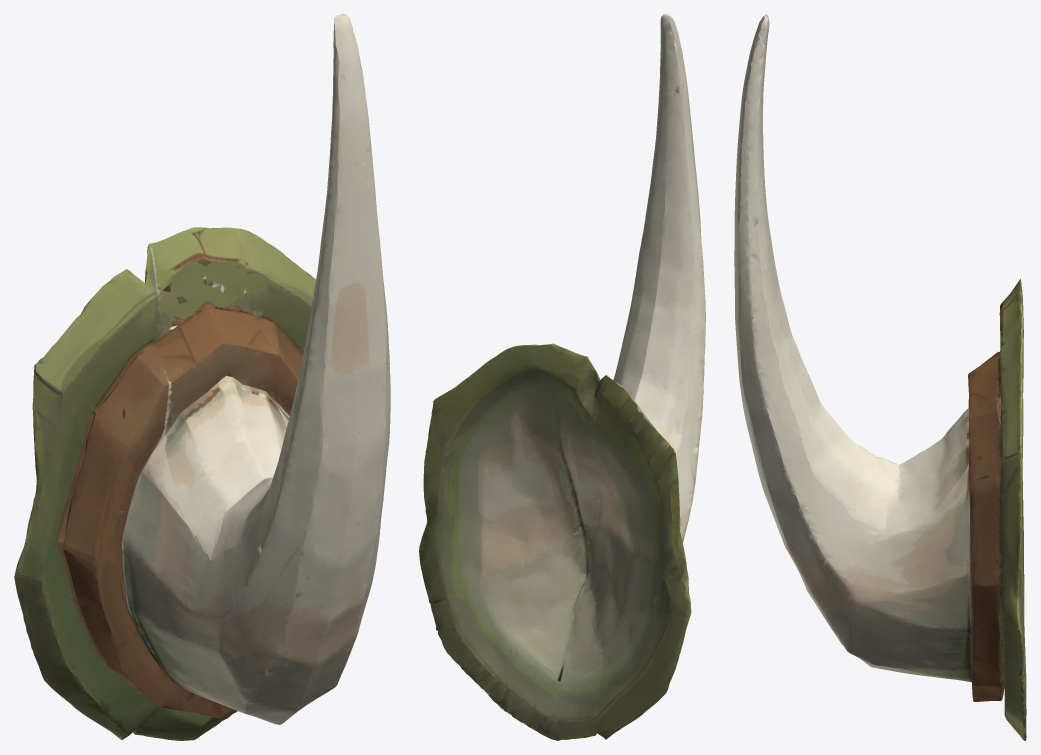
Rendered from item_wolf_tooth.glb.
3 renders of one model, left to right at view 1: azimuth 30°, elevation 25°; view 2: azimuth 150°, elevation 25°; view 3: azimuth 270°, elevation 25°, orthographic. The views are drawn at different scales.
Parts seen in each view (by area): view 1: item_wolf_tooth; view 2: item_wolf_tooth; view 3: item_wolf_tooth.
Boxes of the visible parts, <box> form: item_wolf_tooth: <box>14,14,390,740</box>; item_wolf_tooth: <box>419,14,705,740</box>; item_wolf_tooth: <box>734,14,1026,740</box>.
Size of the model in its own units: 0.0355 by 0.08 by 0.0294.
1 material, 1 textured.
